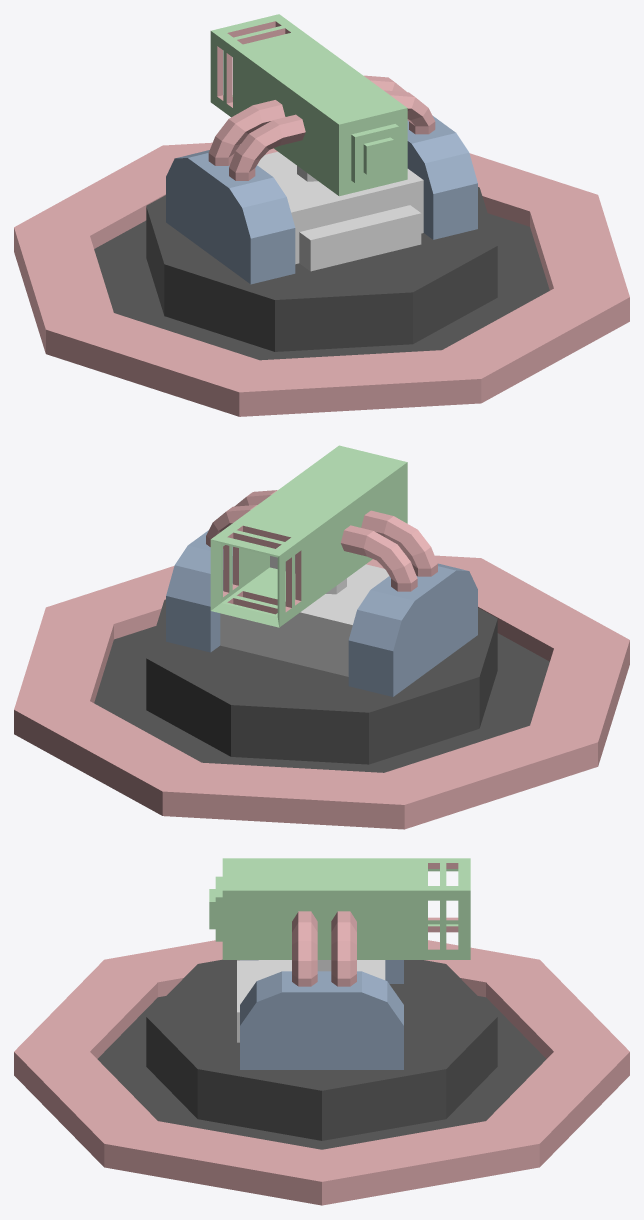
The model's file is TorreDanoEmAreaAVC2.fbx.
3 renders of one model, top to bottom at view 1: azimuth 30°, elevation 25°; view 2: azimuth 150°, elevation 25°; view 3: azimuth 270°, elevation 25°, orthographic. The views are drawn at different scales.
Parts seen in each view (by area): view 1: Torre, Base; view 2: Torre, Base; view 3: Torre, Base.
Part boxes in pixels (x1,y1,x2,y2): Torre: (146, 14, 497, 351); Base: (14, 142, 629, 416); Torre: (146, 445, 497, 764); Base: (14, 555, 629, 829); Torre: (146, 858, 497, 1140); Base: (14, 940, 629, 1205).
Size of the model in its own units: 581 by 209 by 581.
